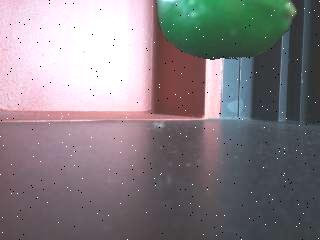Lime: (156, 0, 297, 58)
